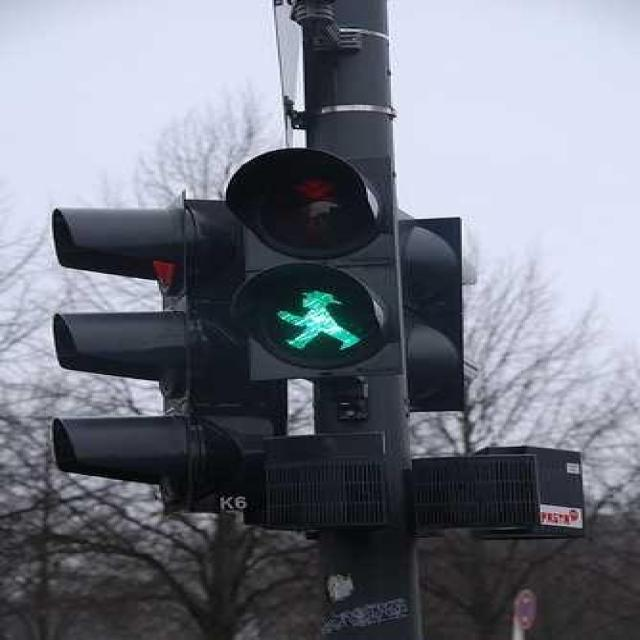Traffic Light -Green-: (222, 148, 412, 382)
